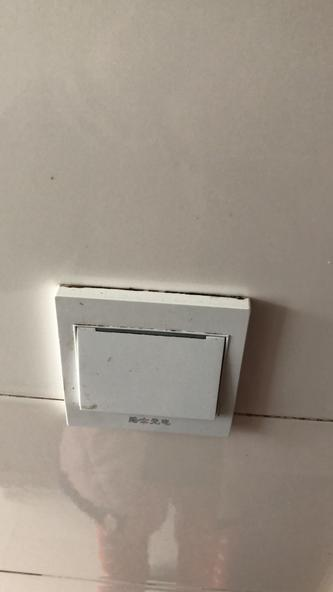switch: (71, 319, 229, 421)
